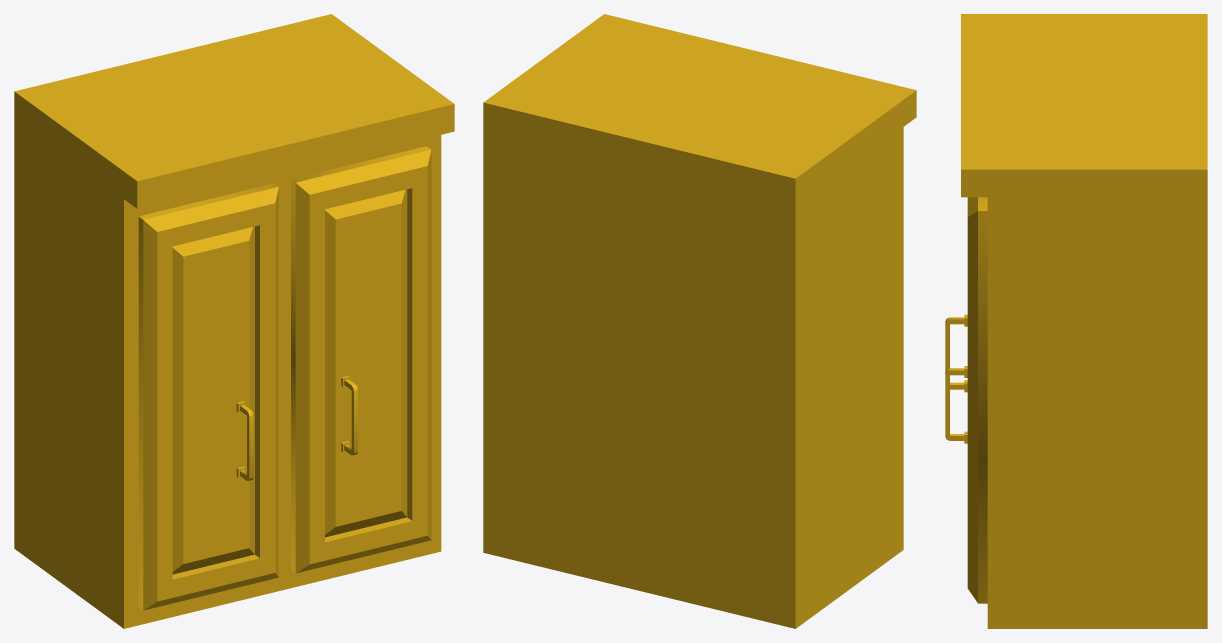
File: CTS_E_CabinetWallA.fbx
3 renders of one model, left to right at view 1: azimuth 30°, elevation 25°; view 2: azimuth 150°, elevation 25°; view 3: azimuth 270°, elevation 25°, orthographic. The views are drawn at different scales.
Parts seen in each view (by area): view 1: CTS_E_CabinetWallA; view 2: CTS_E_CabinetWallA; view 3: CTS_E_CabinetWallA.
Part boxes in pixels (left/top/right/bottom): CTS_E_CabinetWallA: left=14, top=14, right=454, bottom=628; CTS_E_CabinetWallA: left=483, top=14, right=916, bottom=628; CTS_E_CabinetWallA: left=945, top=14, right=1207, bottom=628.
Bounding box in the file's own units: 98.13 × 135 × 70.04.
